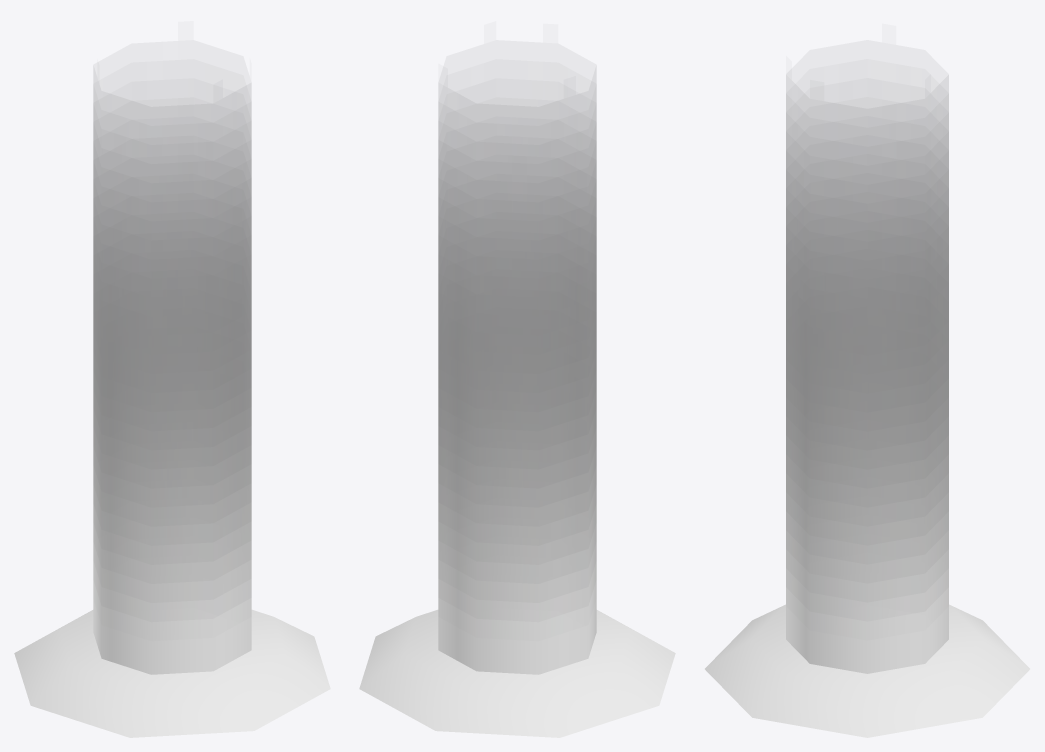
Rendered from LightBeam_n.glb.
The picture shows the model from 3 angles, left to right: view 1: azimuth 30°, elevation 25°; view 2: azimuth 150°, elevation 25°; view 3: azimuth 270°, elevation 25°; orthographic projection.
Visible parts, largest first — view 1: LightBeam_Top, LightBeam; view 2: LightBeam_Top, LightBeam; view 3: LightBeam_Top, LightBeam.
Part boxes in pixels (box(x1,y1,x2,y2)): LightBeam_Top: box(93, 82, 251, 674); LightBeam: box(14, 609, 330, 737); LightBeam_Top: box(438, 82, 596, 674); LightBeam: box(359, 609, 675, 737); LightBeam_Top: box(786, 85, 948, 673); LightBeam: box(705, 604, 1029, 737).
Size of the model in its own units: 0.05 by 0.105 by 0.05.
1 material, 1 textured.
